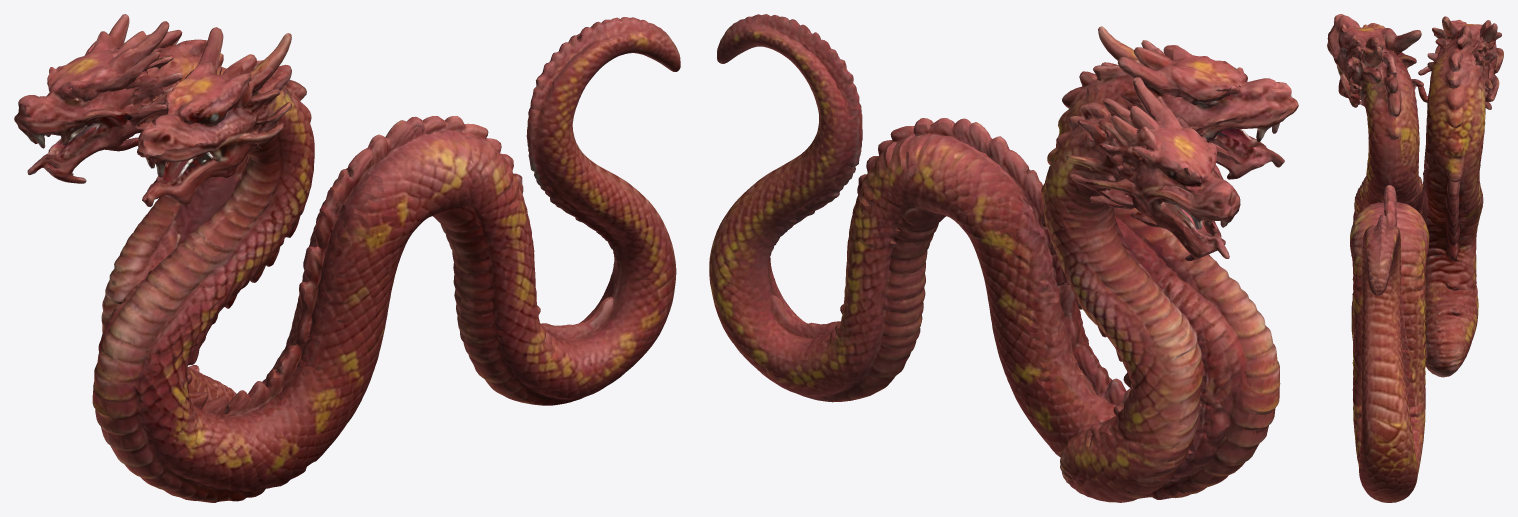
File: jiaochong.glb
3 renders of one model, left to right at view 1: azimuth 30°, elevation 25°; view 2: azimuth 150°, elevation 25°; view 3: azimuth 270°, elevation 25°, orthographic. The views are drawn at different scales.
Visible parts, largest first — view 1: geometry_0; view 2: geometry_0; view 3: geometry_0.
Part boxes in pixels (x1,y1,x2,y2): geometry_0: (14,14,680,502); geometry_0: (709,14,1298,502); geometry_0: (1327,14,1503,502).
Bounding box in the file's own units: 0.32 × 0.2365 × 0.1066.
1 material, 1 textured.
